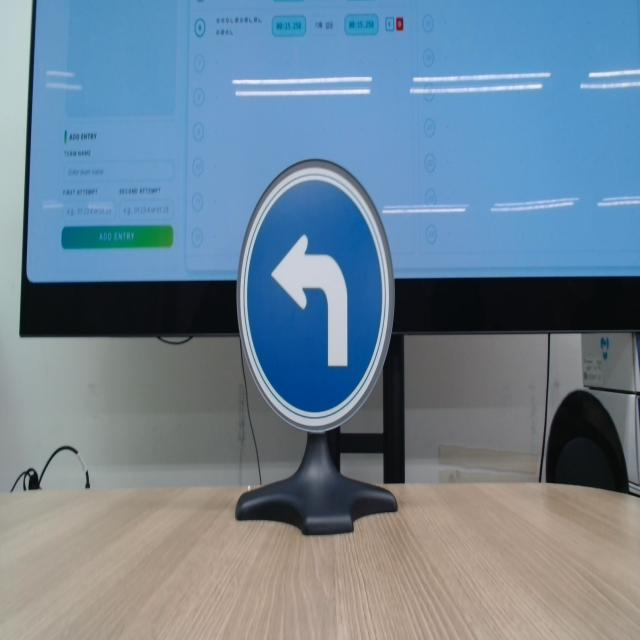left_direction: (225, 131, 405, 439)
